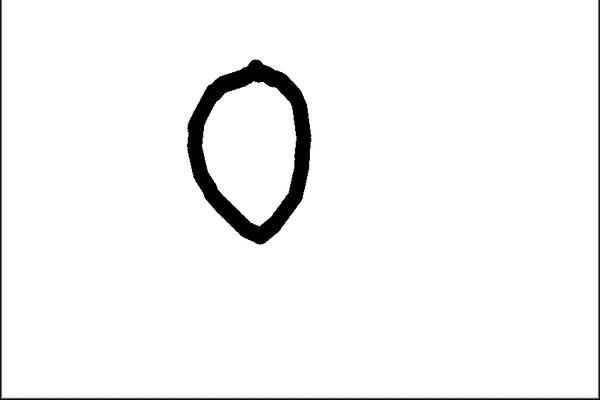O: (170, 47, 325, 254)
